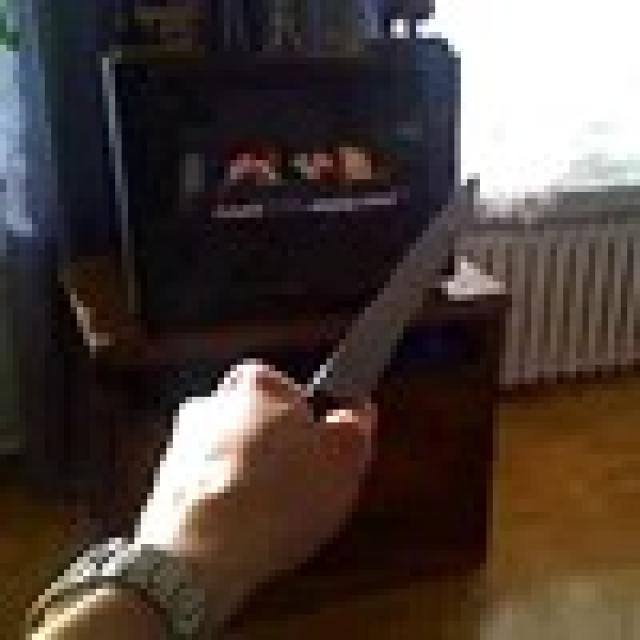Knife_Handle: (156, 171, 495, 516)
